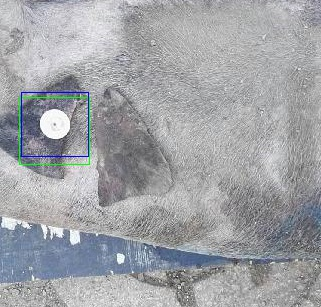text: (19, 97, 89, 164)
